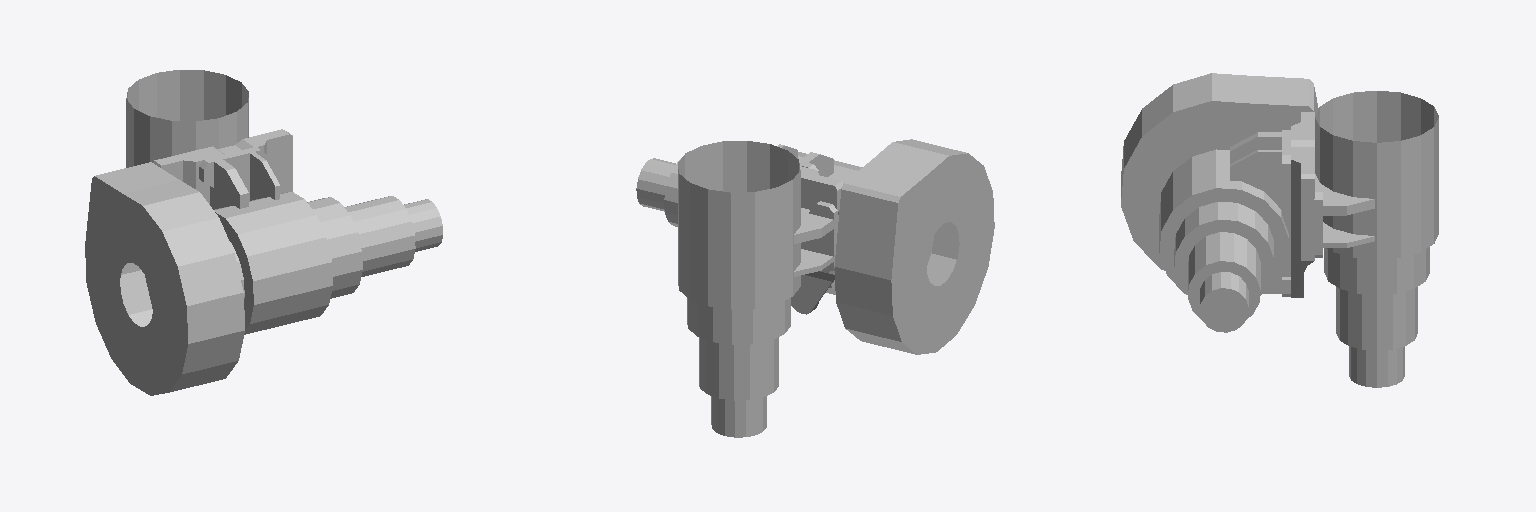
File: armBase.obj
3 views of the same model, side by side, from view 1: azimuth 30°, elevation 25°; view 2: azimuth 150°, elevation 25°; view 3: azimuth 270°, elevation 25° (orthographic).
Parts seen in each view (by area): view 1: arm_01.001_Mesh.002; view 2: arm_01.001_Mesh.002; view 3: arm_01.001_Mesh.002.
Boxes of the visible parts, x1,y1,x2,y2 form: arm_01.001_Mesh.002: [85, 70, 442, 395]; arm_01.001_Mesh.002: [636, 139, 994, 437]; arm_01.001_Mesh.002: [1121, 73, 1438, 387].
Size of the model in its own units: 0.3569 by 0.3005 by 0.3341.